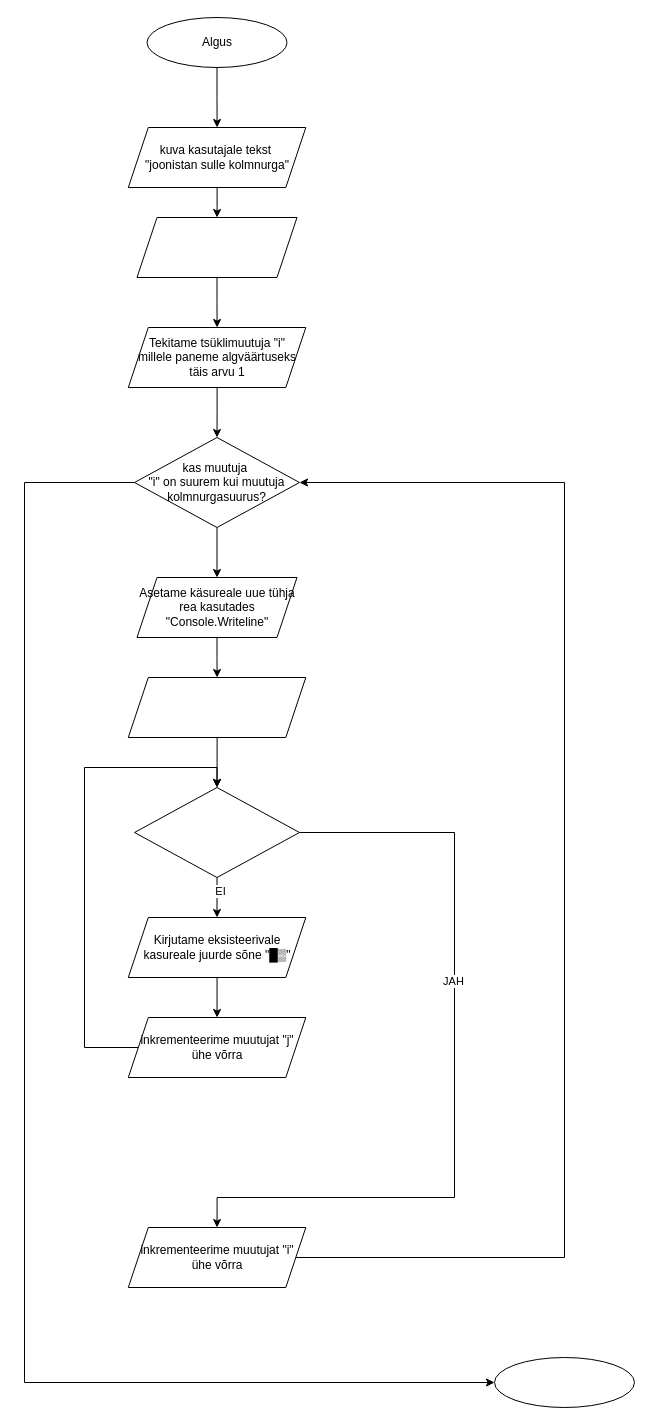
This 652x1425 diagram has some shape labels left out. Each missing label, with the centre of its shape:
kas muutuja "j" on suurem kui muutuja "i"?: [217,832]
Lõpp: [564,1382]
Oota kuni kasutaja sisestab kolmnurga suursus: [216,247]
Tekitame teise tsüklimuutuja "j" millele ka paneme algväärtuseks täis arvu 1: [216,707]
